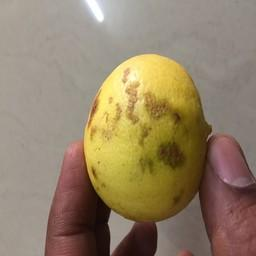Bad_lime: (78, 49, 206, 225)
